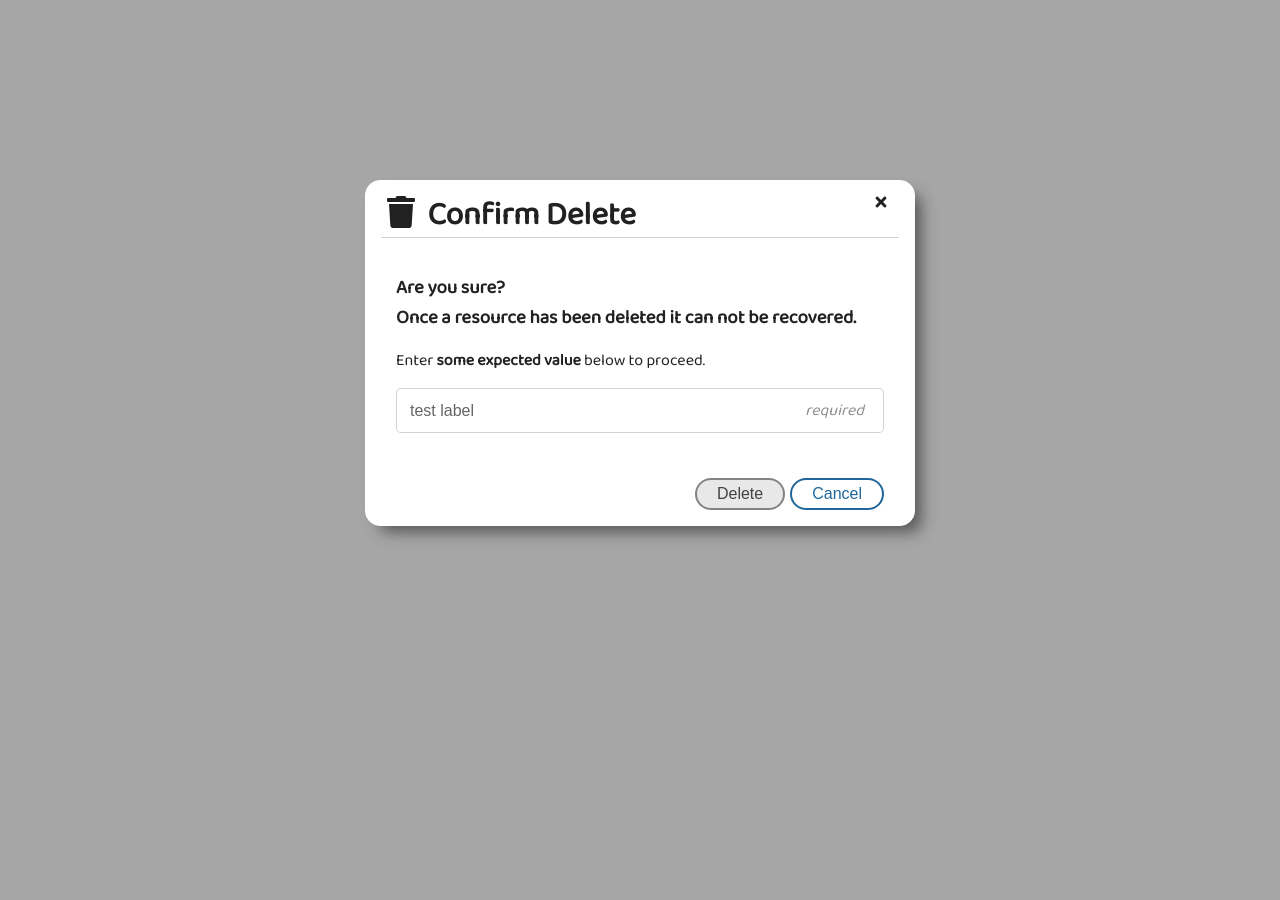
<DeleteModal /> › should render an InputBox with optional label/placeholder for input
This screenshot has width=1280, height=900.
Focus the field with test id "confirmStringInput.input" at {"x": 640, "y": 410}, box [396, 388, 884, 433]
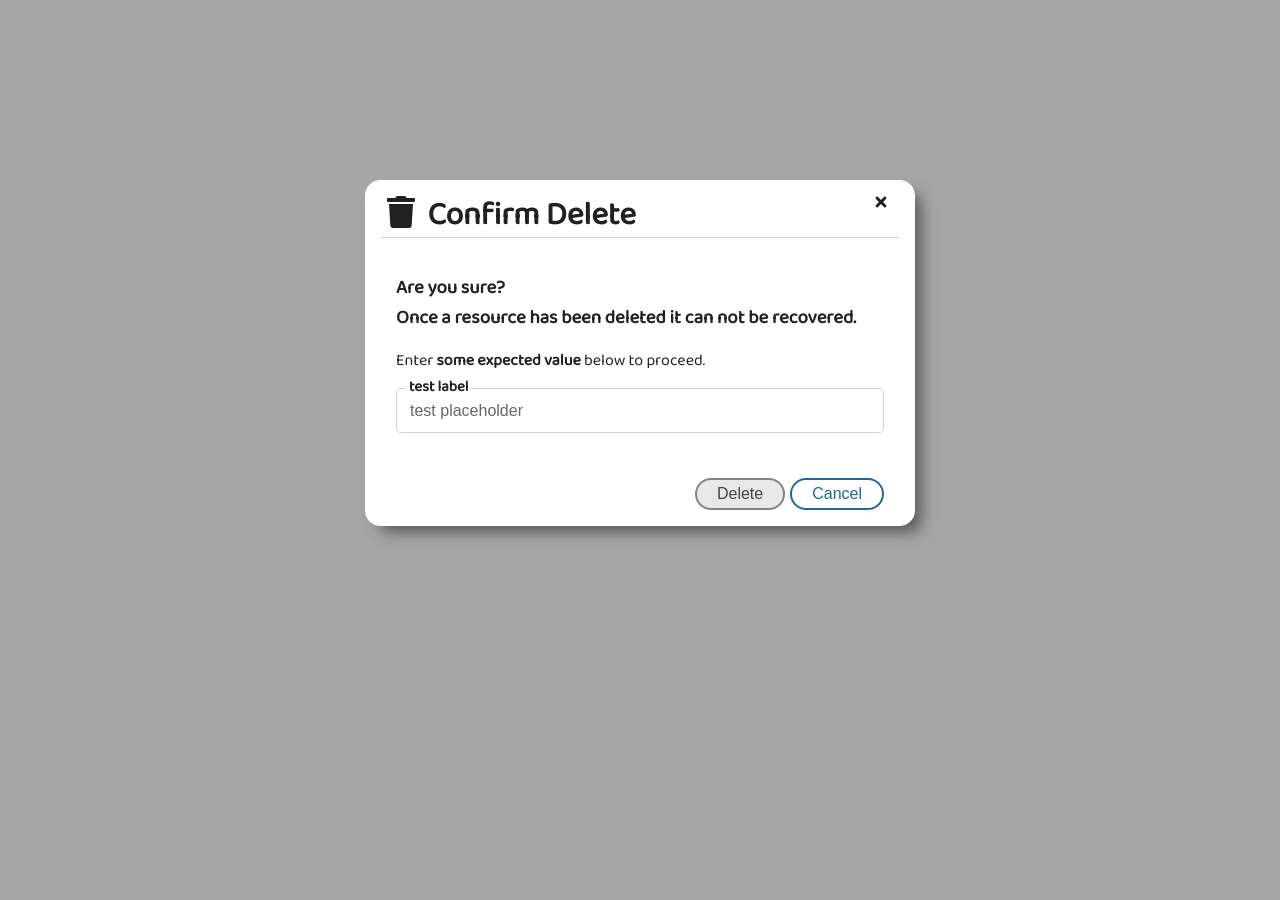
Expected: the field with placeholder "test placeholder" is shown, [396, 388, 884, 433]
